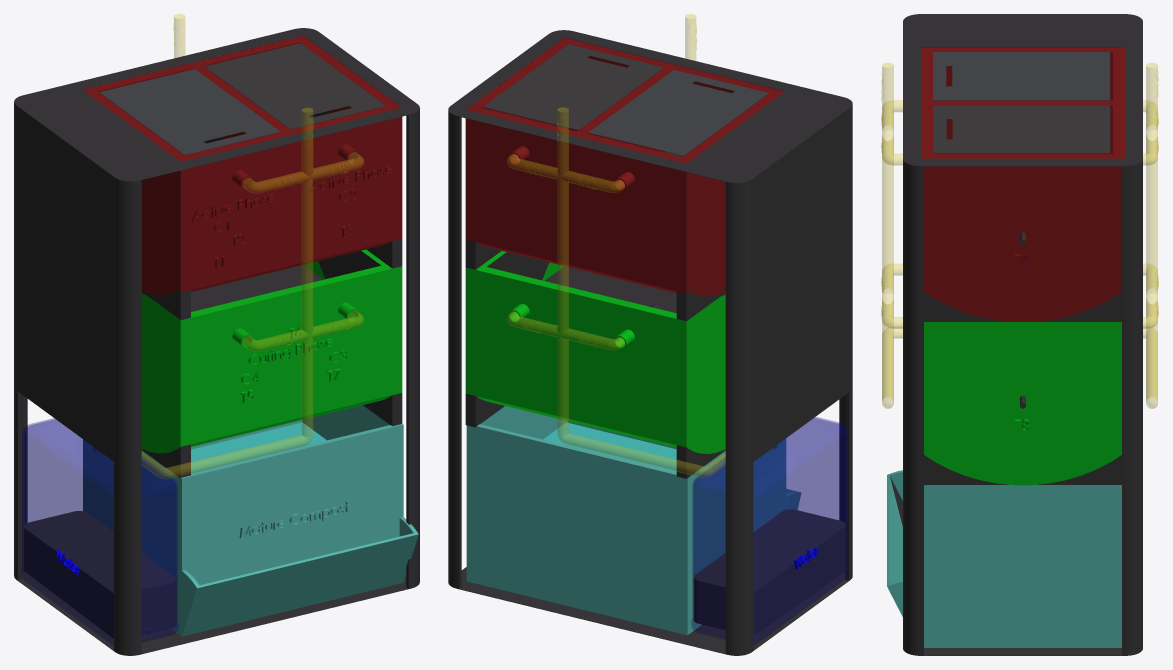
Rendered from anime_full2.glb.
The picture shows the model from 3 angles, left to right: view 1: azimuth 30°, elevation 25°; view 2: azimuth 150°, elevation 25°; view 3: azimuth 270°, elevation 25°; orthographic projection. The views are drawn at different scales.
Parts seen in each view (by area): view 1: Part3-1, Part5-1, Part1-1, Part2-1, bottle-1, wasteeee-1, pipe line-1, lid-1, lid-2, waste 3-1, waste 2-1, connector-1 (+3 smaller); view 2: Part3-1, Part5-1, Part1-1, Part2-1, bottle-1, wasteeee-1, pipe line-1, lid-1, lid-2, waste 3-1, waste 2-1, connector-1 (+3 smaller); view 3: Part3-1, Part1-1, Part5-1, Part2-1, pipe line-1, lid-1, lid-2, connector-3, connector-2.
Part boxes in pixels (x1,y1,x2,y2): Part3-1: (14, 28, 419, 655); Part5-1: (83, 405, 418, 636); Part1-1: (82, 35, 402, 295); Part2-1: (141, 249, 402, 453); bottle-1: (21, 418, 178, 645); wasteeee-1: (23, 511, 176, 638); pipe line-1: (142, 14, 363, 478); lid-1: (205, 43, 385, 129); lid-2: (99, 69, 280, 155); waste 3-1: (191, 422, 326, 473); waste 2-1: (191, 265, 322, 311); connector-1: (141, 444, 190, 477); Part3-1: (448, 30, 852, 655); Part5-1: (466, 406, 801, 635); Part1-1: (465, 37, 784, 296); Part2-1: (465, 251, 725, 453); bottle-1: (691, 417, 847, 644); wasteeee-1: (693, 509, 845, 634); pipe line-1: (507, 14, 725, 477); lid-1: (483, 44, 663, 130); lid-2: (588, 70, 768, 155); waste 3-1: (543, 422, 676, 471); waste 2-1: (545, 266, 676, 313); connector-1: (676, 445, 725, 478); Part3-1: (903, 14, 1142, 655); Part1-1: (921, 47, 1124, 321); Part5-1: (887, 470, 1121, 647); Part2-1: (924, 322, 1121, 485); pipe line-1: (881, 63, 1158, 408); lid-1: (933, 105, 1110, 153); lid-2: (933, 52, 1110, 100); connector-3: (924, 292, 1121, 321); connector-2: (924, 455, 1121, 484).
Size of the model in its own units: 0.605 by 0.969 by 0.462.
